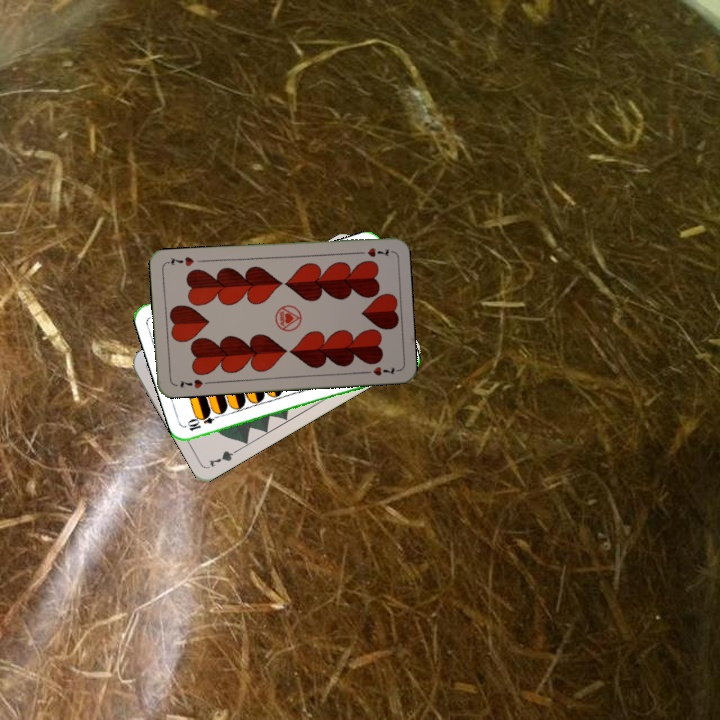E10: (183, 410, 223, 433)
G7: (204, 444, 243, 470)
H7: (352, 244, 391, 260), (176, 375, 205, 391)
